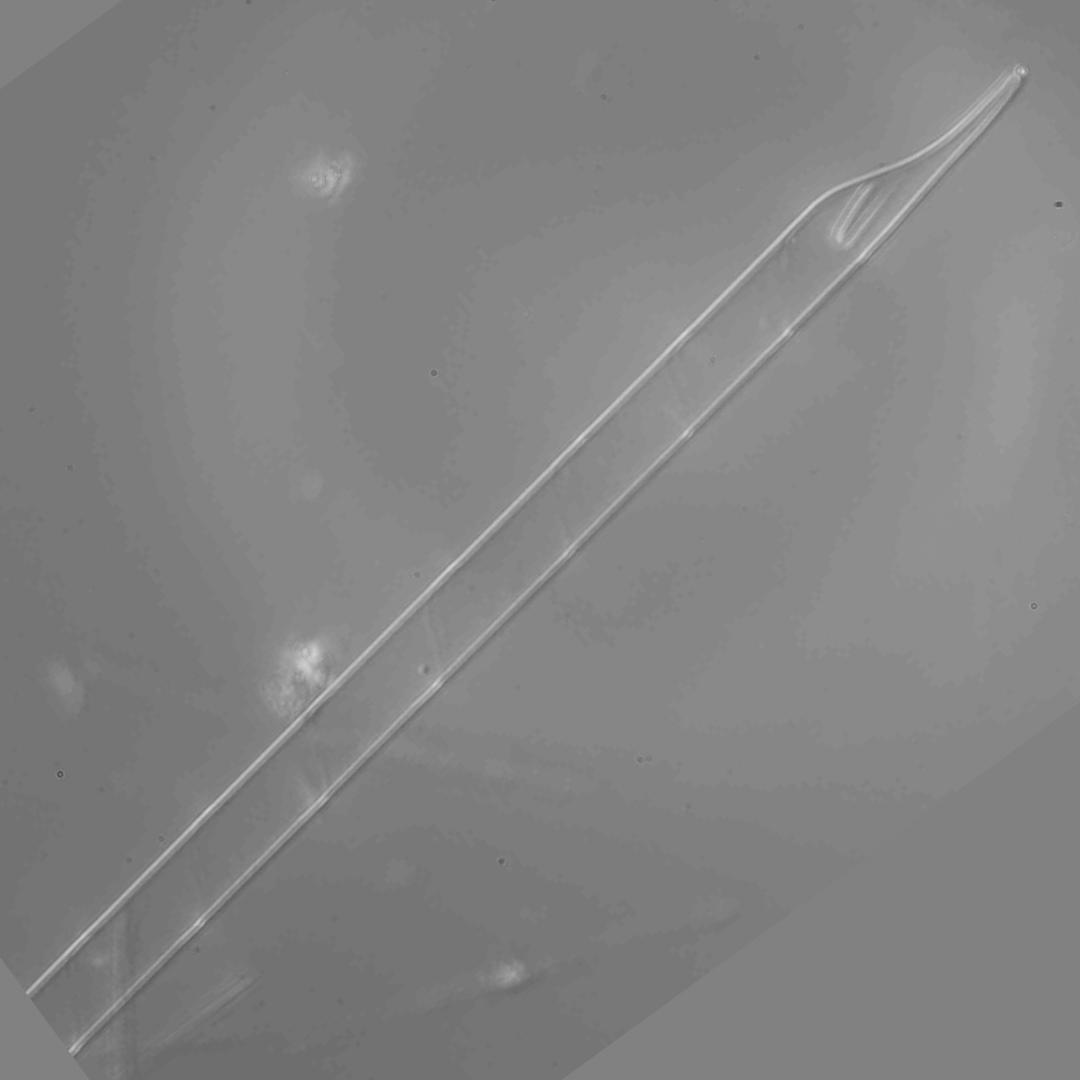proboscia_alata: (26, 61, 1029, 1056)
